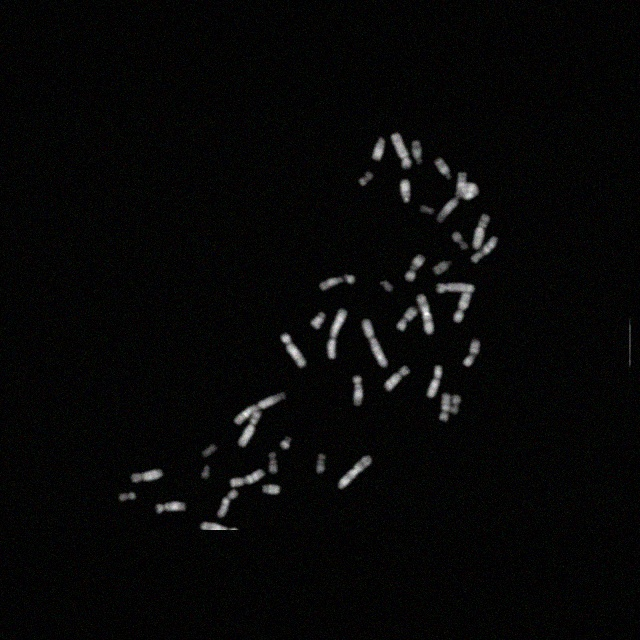chromosome: (235, 392, 287, 424), (437, 172, 468, 224), (336, 454, 374, 490), (362, 320, 388, 368), (327, 308, 348, 360), (280, 332, 306, 370), (237, 410, 261, 446), (391, 132, 412, 170), (452, 288, 474, 322), (471, 237, 499, 263), (418, 292, 434, 336), (384, 366, 411, 392), (230, 468, 264, 488), (472, 213, 490, 249), (320, 274, 356, 292), (216, 489, 238, 517), (396, 306, 418, 332), (426, 364, 442, 398), (130, 469, 163, 485), (404, 256, 424, 282), (156, 500, 187, 514), (464, 339, 480, 366), (438, 391, 452, 421), (200, 520, 240, 530), (434, 157, 452, 179), (456, 182, 478, 200), (370, 137, 386, 161), (437, 284, 475, 294), (398, 178, 412, 204), (310, 310, 326, 332), (352, 375, 363, 407), (451, 230, 467, 250), (433, 258, 453, 274), (411, 141, 424, 165), (202, 442, 218, 458), (315, 452, 327, 473), (358, 172, 374, 186), (380, 277, 394, 293), (200, 462, 212, 480), (262, 483, 280, 495), (268, 452, 278, 472), (419, 204, 435, 216), (279, 434, 291, 450), (452, 394, 461, 414), (118, 492, 136, 502)
